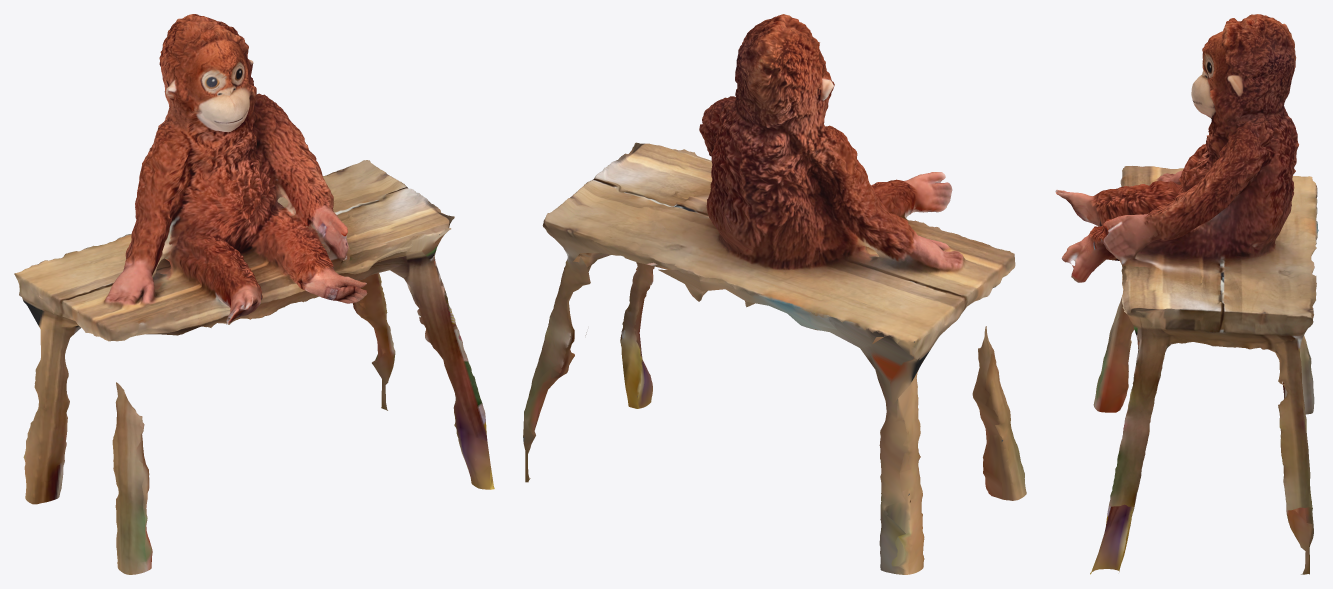
The model's file is orangutan_test.glb.
The picture shows the model from 3 angles, left to right: view 1: azimuth 30°, elevation 25°; view 2: azimuth 150°, elevation 25°; view 3: azimuth 270°, elevation 25°; orthographic projection. The views are drawn at different scales.
Parts seen in each view (by area): view 1: Object_2, Object_3, Object_4; view 2: Object_2, Object_4, Object_3; view 3: Object_4, Object_2, Object_3.
Part boxes in pixels (x1,y1,x2,y2): Object_2: (14,14,490,574); Object_3: (54,29,494,489); Object_4: (16,15,454,574); Object_2: (523,15,1015,574); Object_4: (543,14,1026,572); Object_3: (523,14,1002,482); Object_4: (1055,14,1317,437); Object_2: (1056,14,1318,574); Object_3: (1073,22,1313,574).
Size of the model in its own units: 0.636 by 0.7593 by 0.3972.
1 material, 1 textured.
